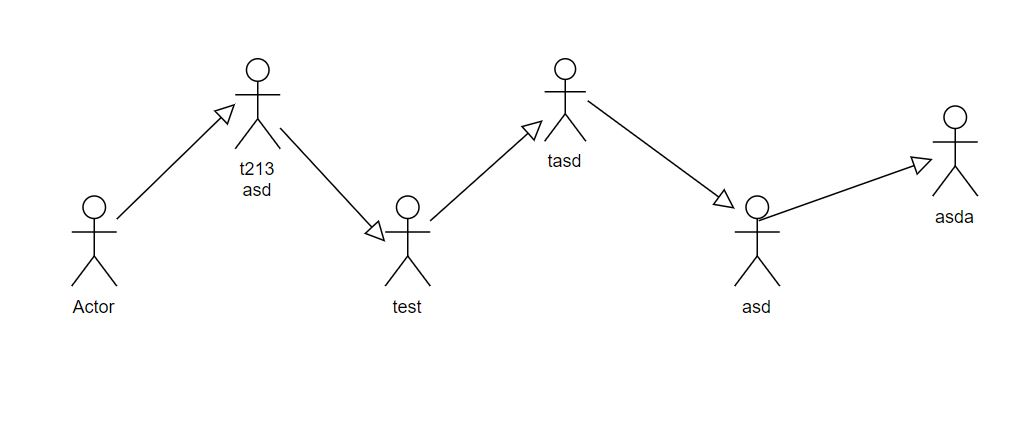actor: (928, 104, 980, 199), (734, 195, 782, 290), (386, 197, 433, 288), (234, 58, 280, 149), (72, 194, 116, 286), (544, 57, 588, 142)
generalization: (588, 99, 733, 208), (117, 102, 233, 218), (278, 127, 383, 240), (760, 155, 933, 220), (431, 121, 543, 220)
text: (237, 156, 276, 200), (933, 209, 987, 231), (68, 295, 117, 319), (540, 148, 584, 172), (386, 295, 425, 317), (736, 295, 774, 317)
